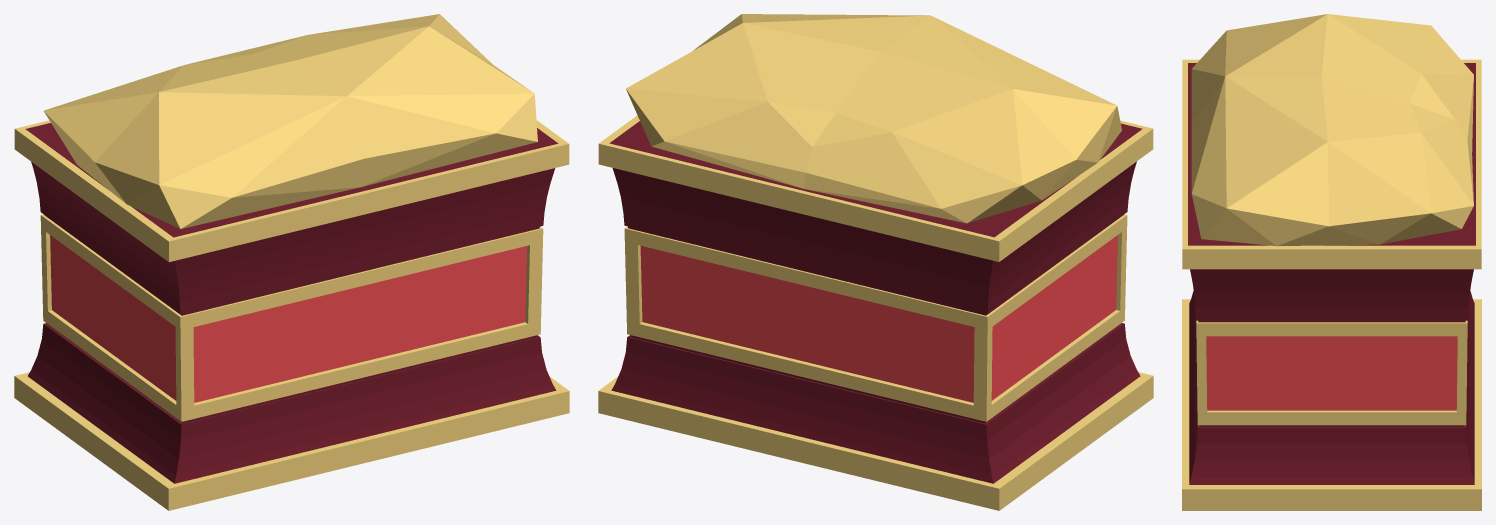
Rendered from chest_001_grp.fbx.
3 renders of one model, left to right at view 1: azimuth 30°, elevation 25°; view 2: azimuth 150°, elevation 25°; view 3: azimuth 270°, elevation 25°, orthographic. The views are drawn at different scales.
Visible parts, largest first — view 1: chest_001_grp; view 2: chest_001_grp; view 3: chest_001_grp.
Boxes of the visible parts, left/top/right/bottom form: chest_001_grp: left=14, top=14, right=569, bottom=510; chest_001_grp: left=598, top=14, right=1153, bottom=510; chest_001_grp: left=1182, top=14, right=1481, bottom=510.
Bounding box in the file's own units: 60 × 50 × 40.
